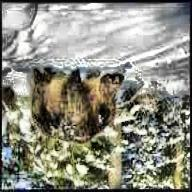boar: (10, 47, 147, 146)
